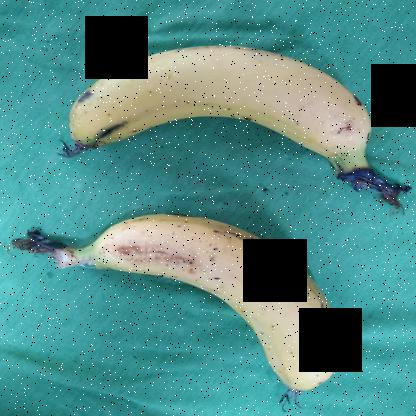freshripe: (54, 38, 382, 178)
ripe: (94, 204, 353, 396)
